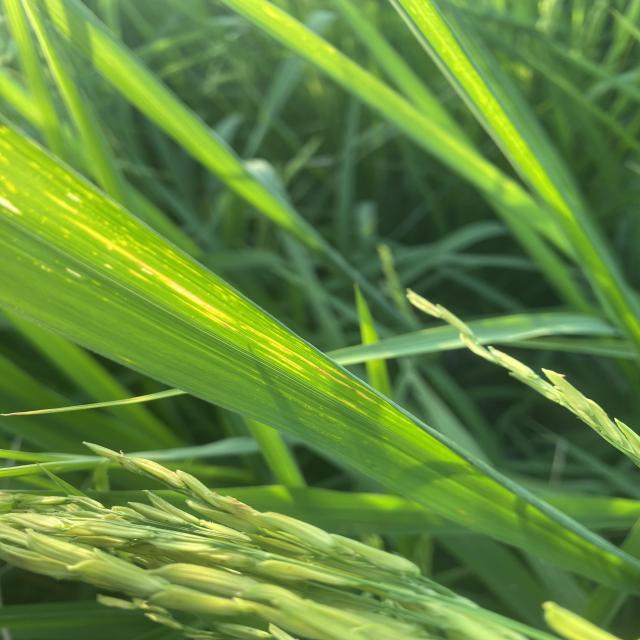Dom soc vi khuan: (71, 220, 236, 323), (240, 325, 397, 416), (257, 342, 303, 371), (264, 354, 311, 381), (327, 391, 368, 416)
